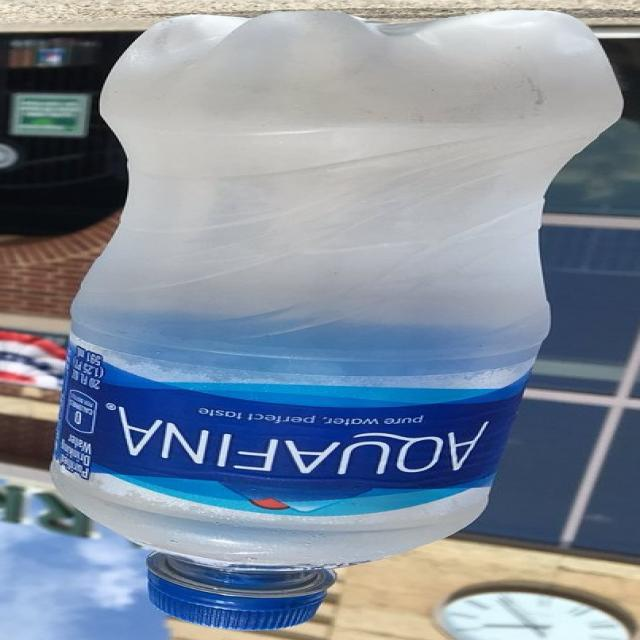plastic: (52, 12, 640, 640)
